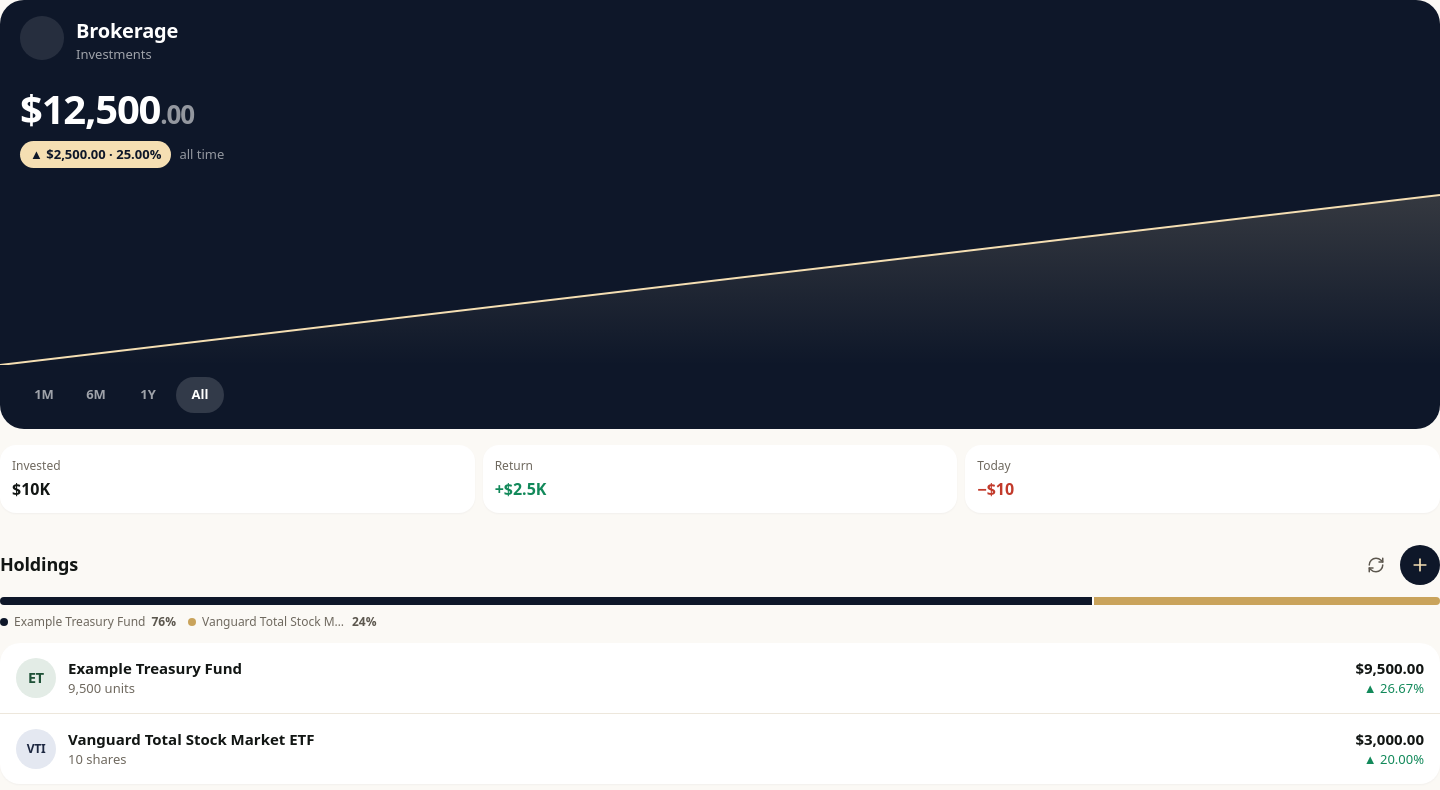
InvestmentWalletView › opens a holding sheet with its price chart and position facts
What coordinates should you click on to do the following:
click the button "ET Example Treasury Fund 9,500 units $9,500.00 ▲ 26.67%"
I would click on:
 (36, 678)
Its box is [0,642,1439,712].
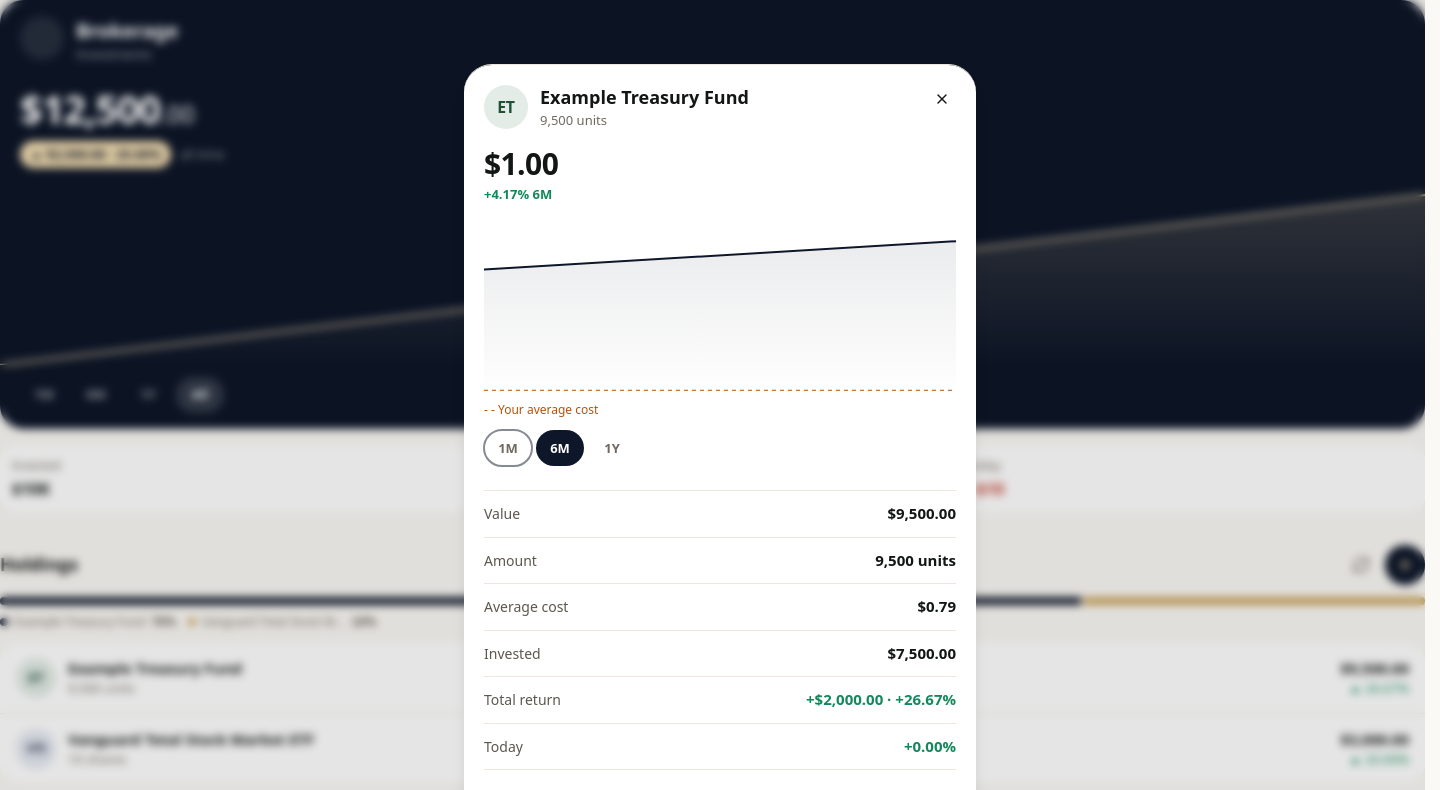
Now the text "Average cost" is shown, box [484,597,568,617]
Now the text "Total return" is shown, box [484,690,561,710]
Now the text "+4.17% 6M" is shown, box [484,185,552,203]
